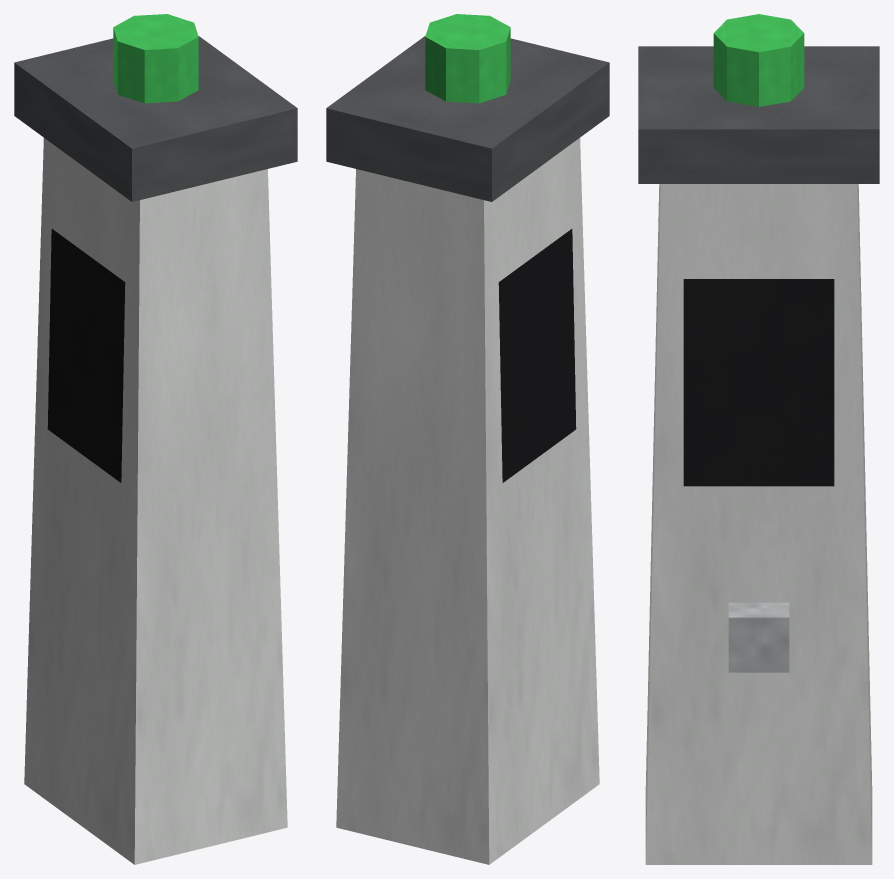
The model's file is SM_Morin_Marina_Colonnina.fbx.
3 views of the same model, side by side, from view 1: azimuth 30°, elevation 25°; view 2: azimuth 150°, elevation 25°; view 3: azimuth 270°, elevation 25° (orthographic). The views are drawn at different scales.
Parts seen in each view (by area): view 1: SM_Morin_Marina_Colonnina; view 2: SM_Morin_Marina_Colonnina; view 3: SM_Morin_Marina_Colonnina.
Boxes of the visible parts, x1,y1,x2,y2 form: SM_Morin_Marina_Colonnina: [14, 14, 297, 864]; SM_Morin_Marina_Colonnina: [326, 14, 609, 864]; SM_Morin_Marina_Colonnina: [638, 14, 879, 864].
Size of what is drawn, in the model's own units: 29 by 32 by 116.
Materials: 1 (1 with a texture image).
